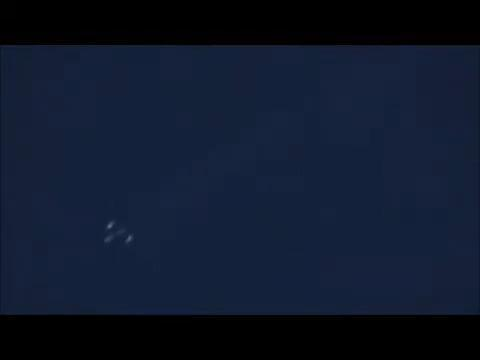Plane: (79, 210, 153, 254)
